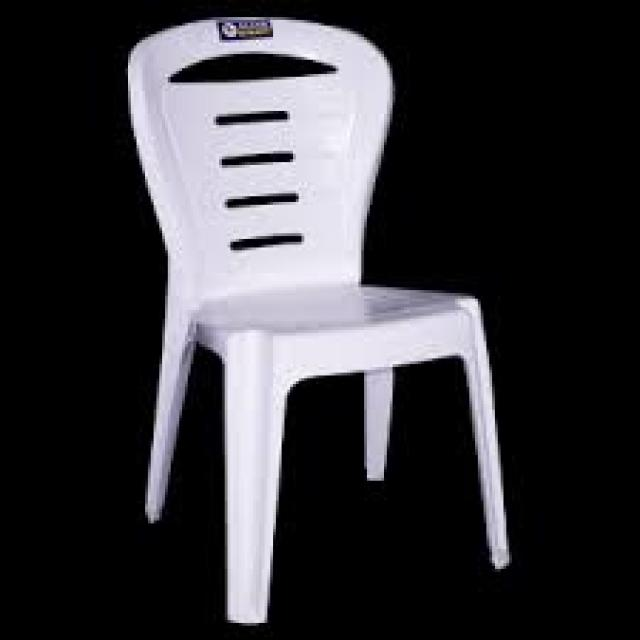chair: (59, 0, 562, 640)
